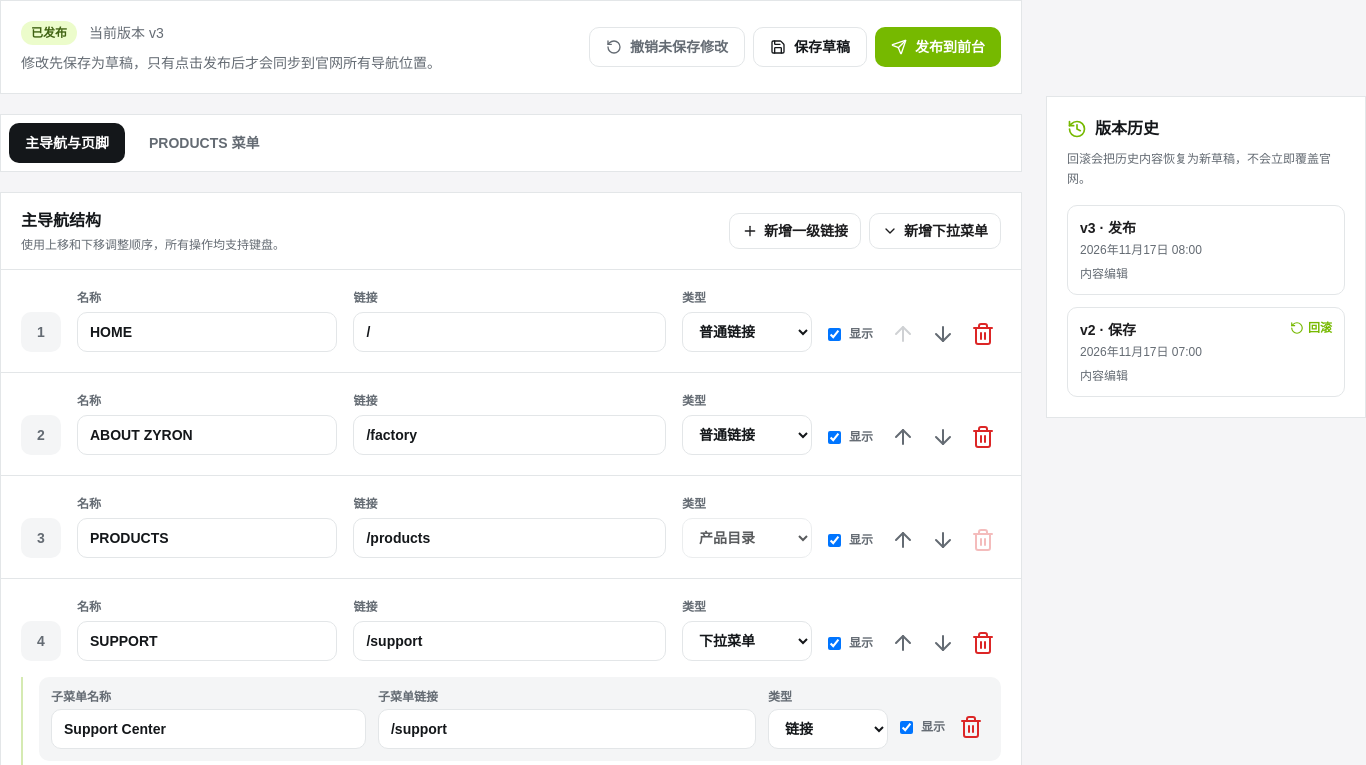
Scenario: NavigationEditor › saves managed typography and spacing controls for the Products menu
The width and height of the screenshot is (1366, 765).
Click the button "PRODUCTS 菜单".
click(204, 143)  # box [133,123,276,163]
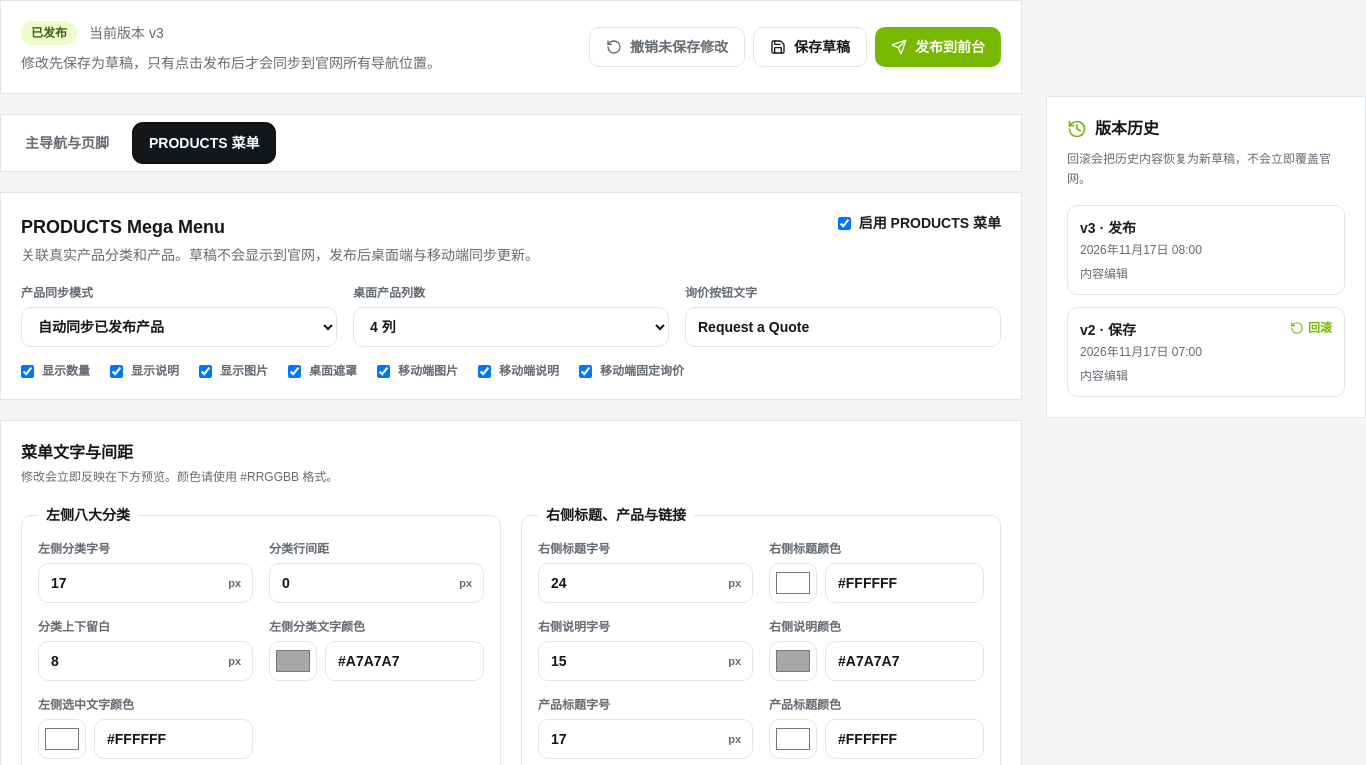
Replace the text in the number field labelled "左侧分类字号" with "16" at (146, 583), box [38,563,253,603]
Replace the text in the field named "左侧分类文字颜色" with "#123456" at (404, 661), box [325,641,484,681]
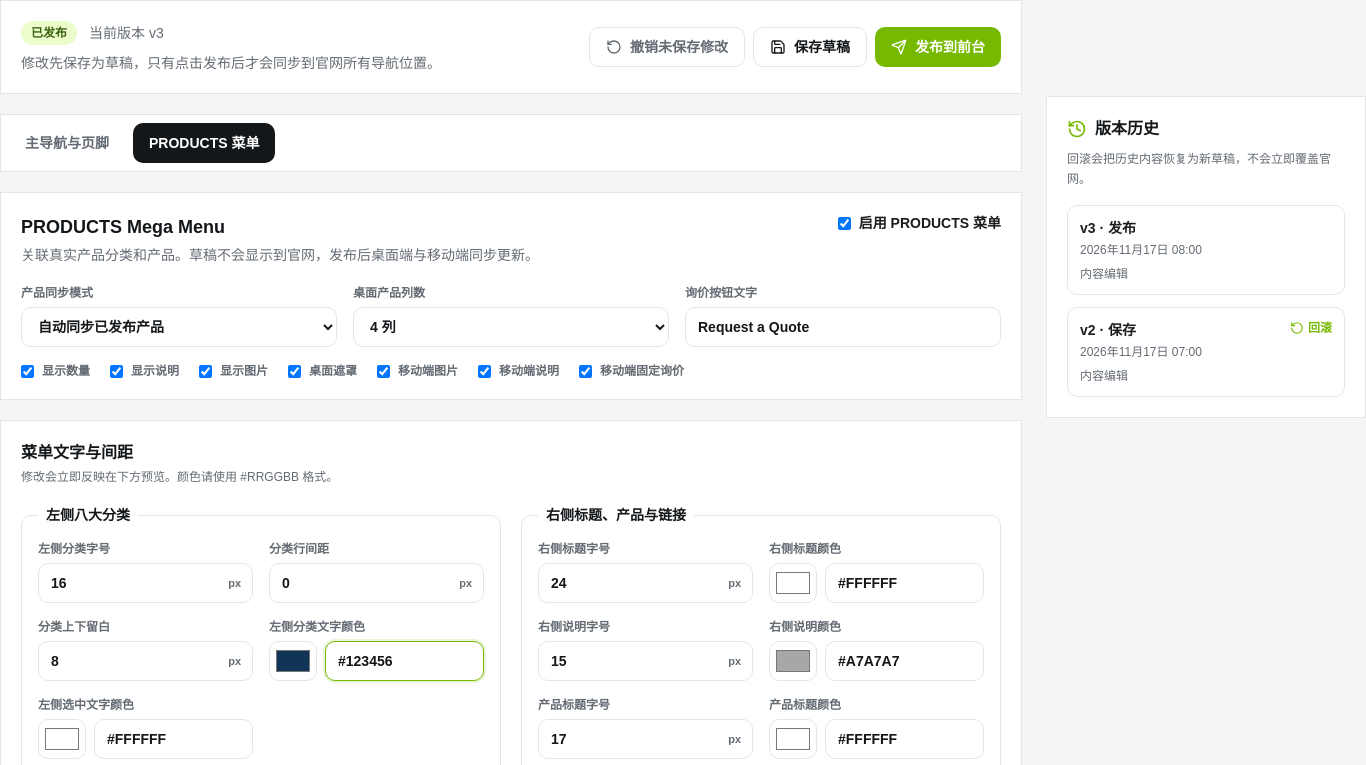
Replace the text in the number field labelled "分类行间距" with "10" at (376, 583), box [269,563,484,603]
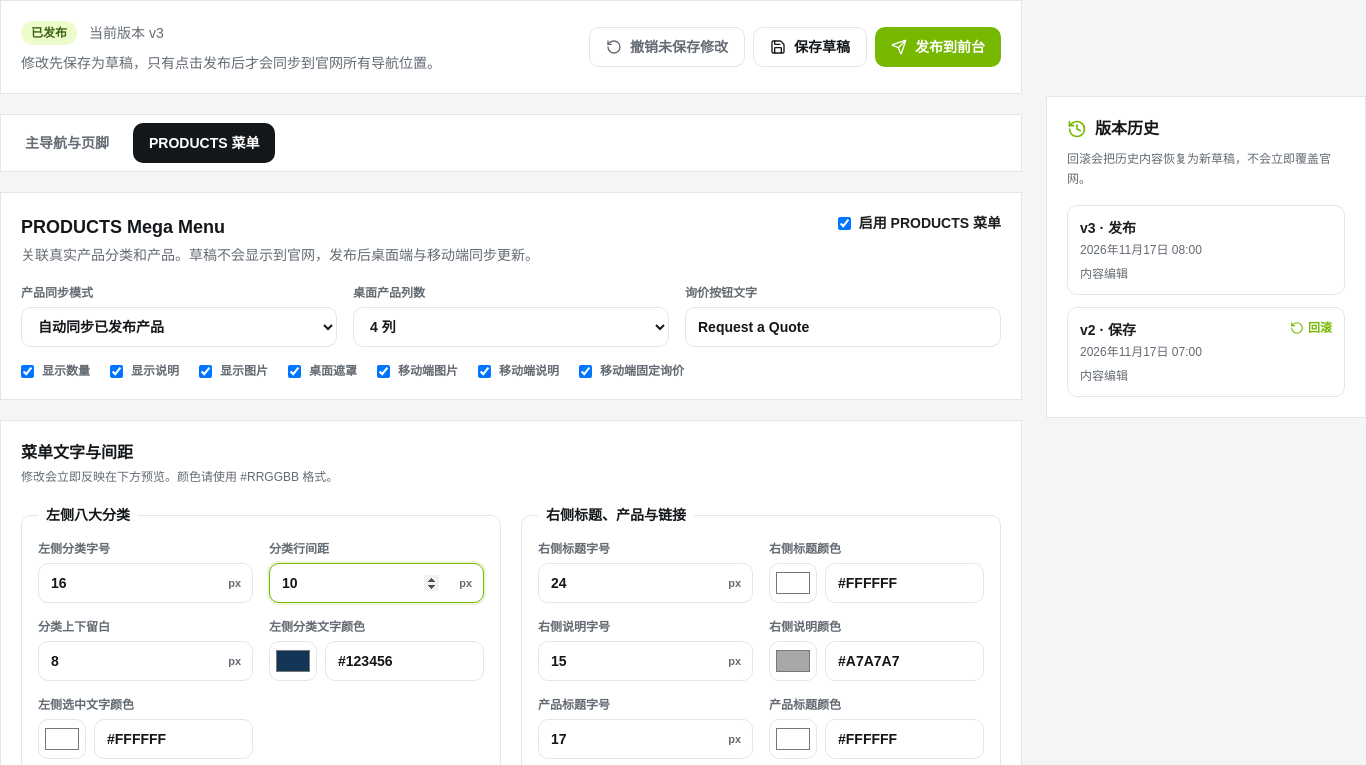
Replace the text in the number field labelled "右侧标题字号" with "32" at (646, 583), box [538,563,753,603]
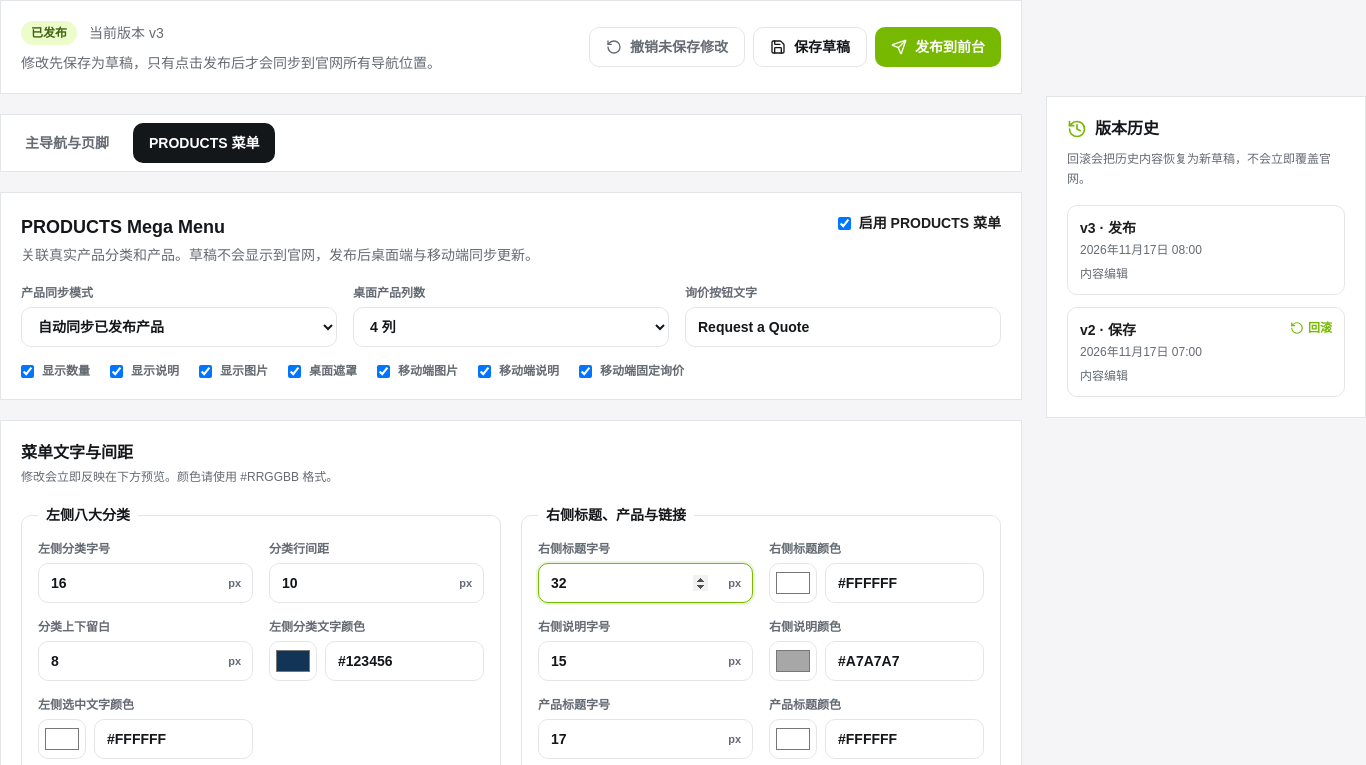
Replace the text in the field named "产品标题颜色" with "#345678" at (904, 739), box [825,719,984,759]
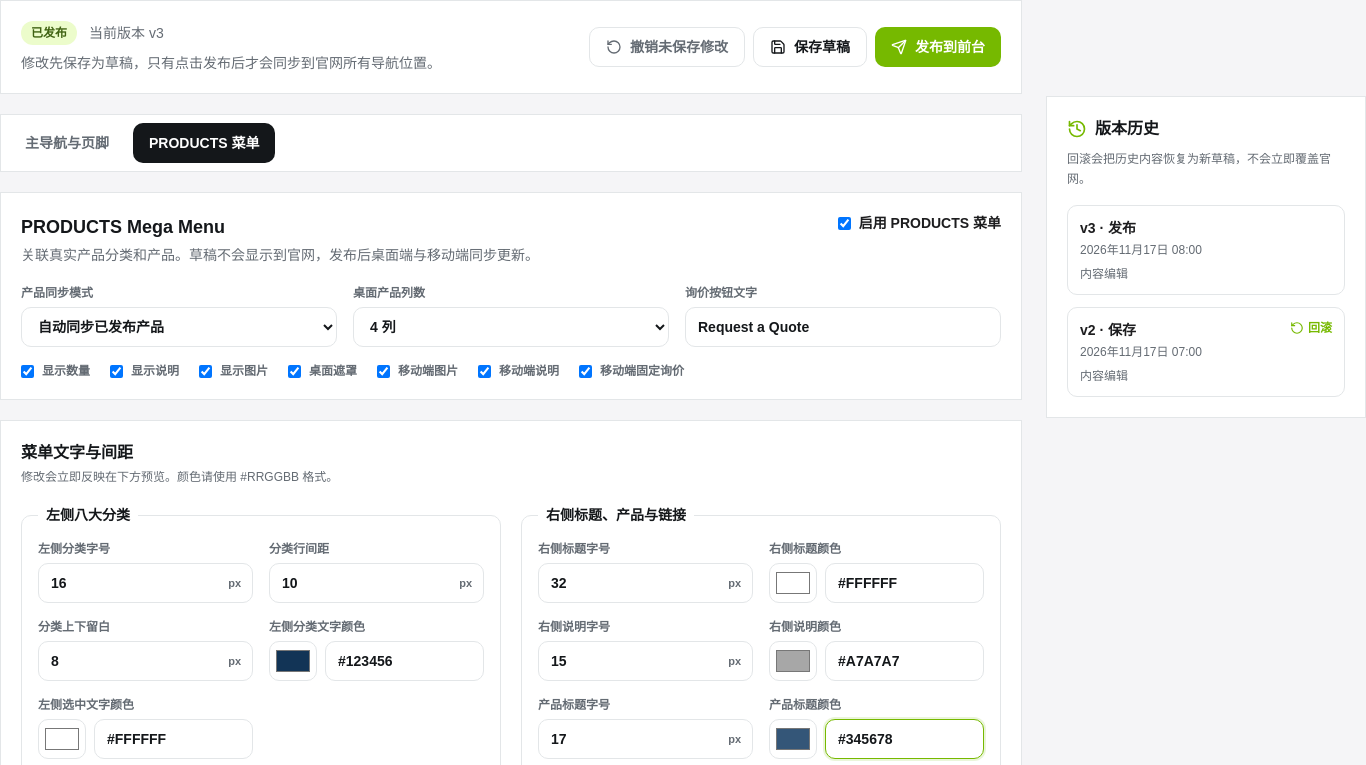
Click the button "保存草稿".
click(810, 47)  # box [753,27,867,67]
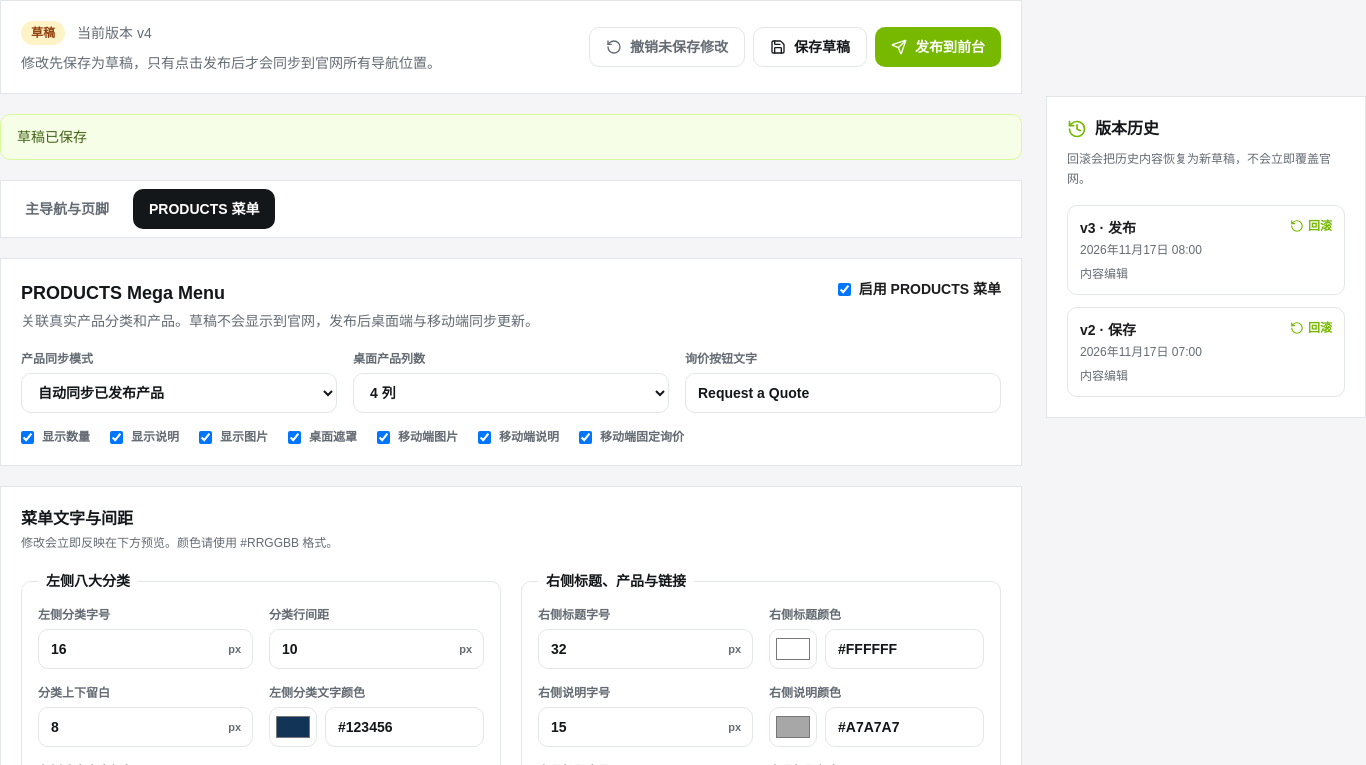
Expected: the message reads "草稿已保存", [17,129,87,145]
